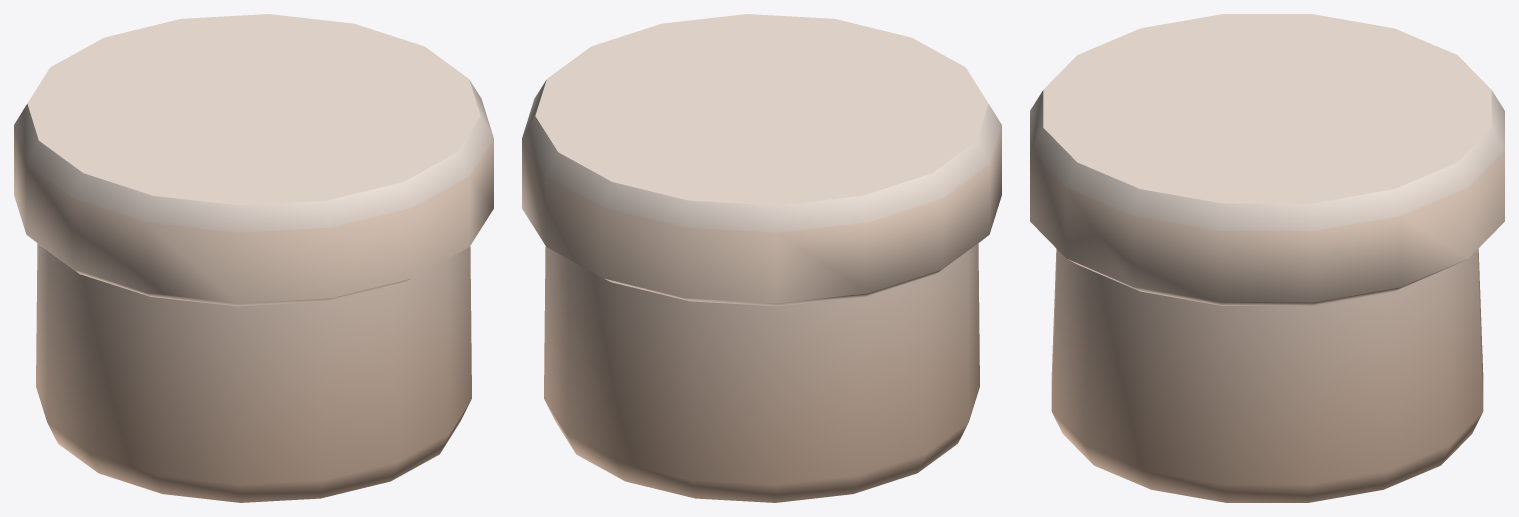
Rendered from tin-b-beige.glb.
The picture shows the model from 3 angles, left to right: view 1: azimuth 30°, elevation 25°; view 2: azimuth 150°, elevation 25°; view 3: azimuth 270°, elevation 25°; orthographic projection.
Parts seen in each view (by area): view 1: tin_B_beige; view 2: tin_B_beige; view 3: tin_B_beige.
Boxes of the visible parts, <box> form: tin_B_beige: <box>14,14,493,502</box>; tin_B_beige: <box>522,14,1001,502</box>; tin_B_beige: <box>1030,14,1504,502</box>.
Size of the model in its own units: 0.4 by 0.2951 by 0.4.
1 material, 1 textured.
